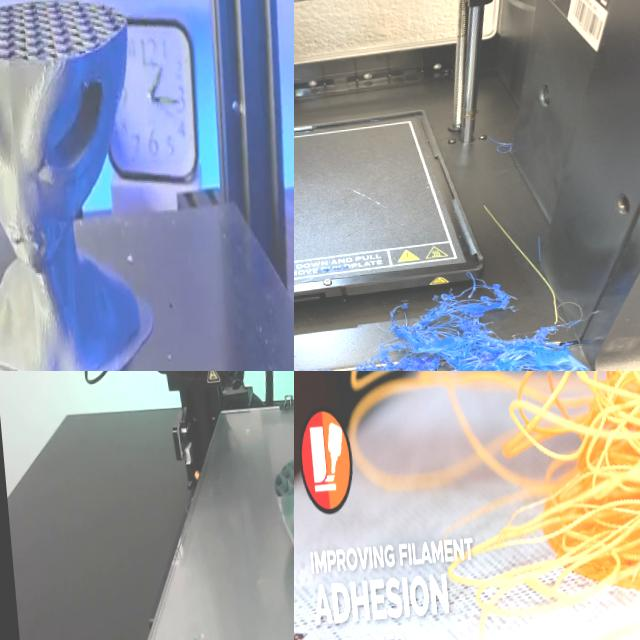spaghetti: (350, 371, 640, 640), (350, 285, 593, 371)
